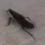cockroach: (8, 8, 34, 30)
